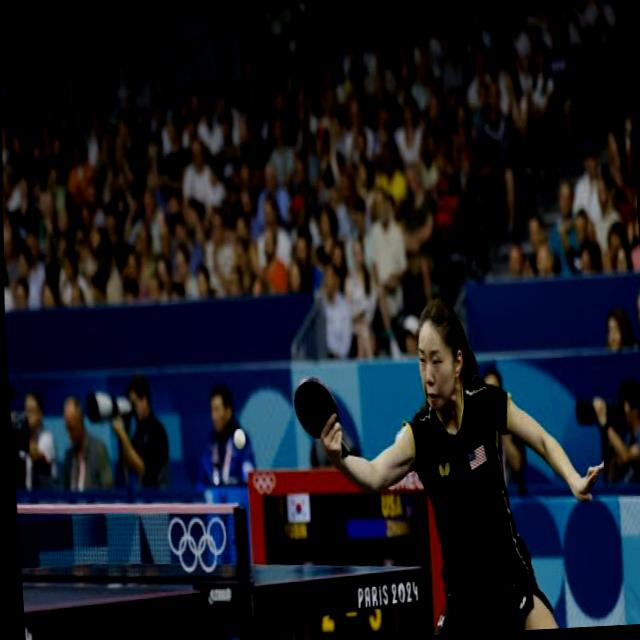TT Net: (16, 501, 254, 599)
TT Racket: (283, 359, 348, 452)
TT Table: (21, 560, 417, 618)
